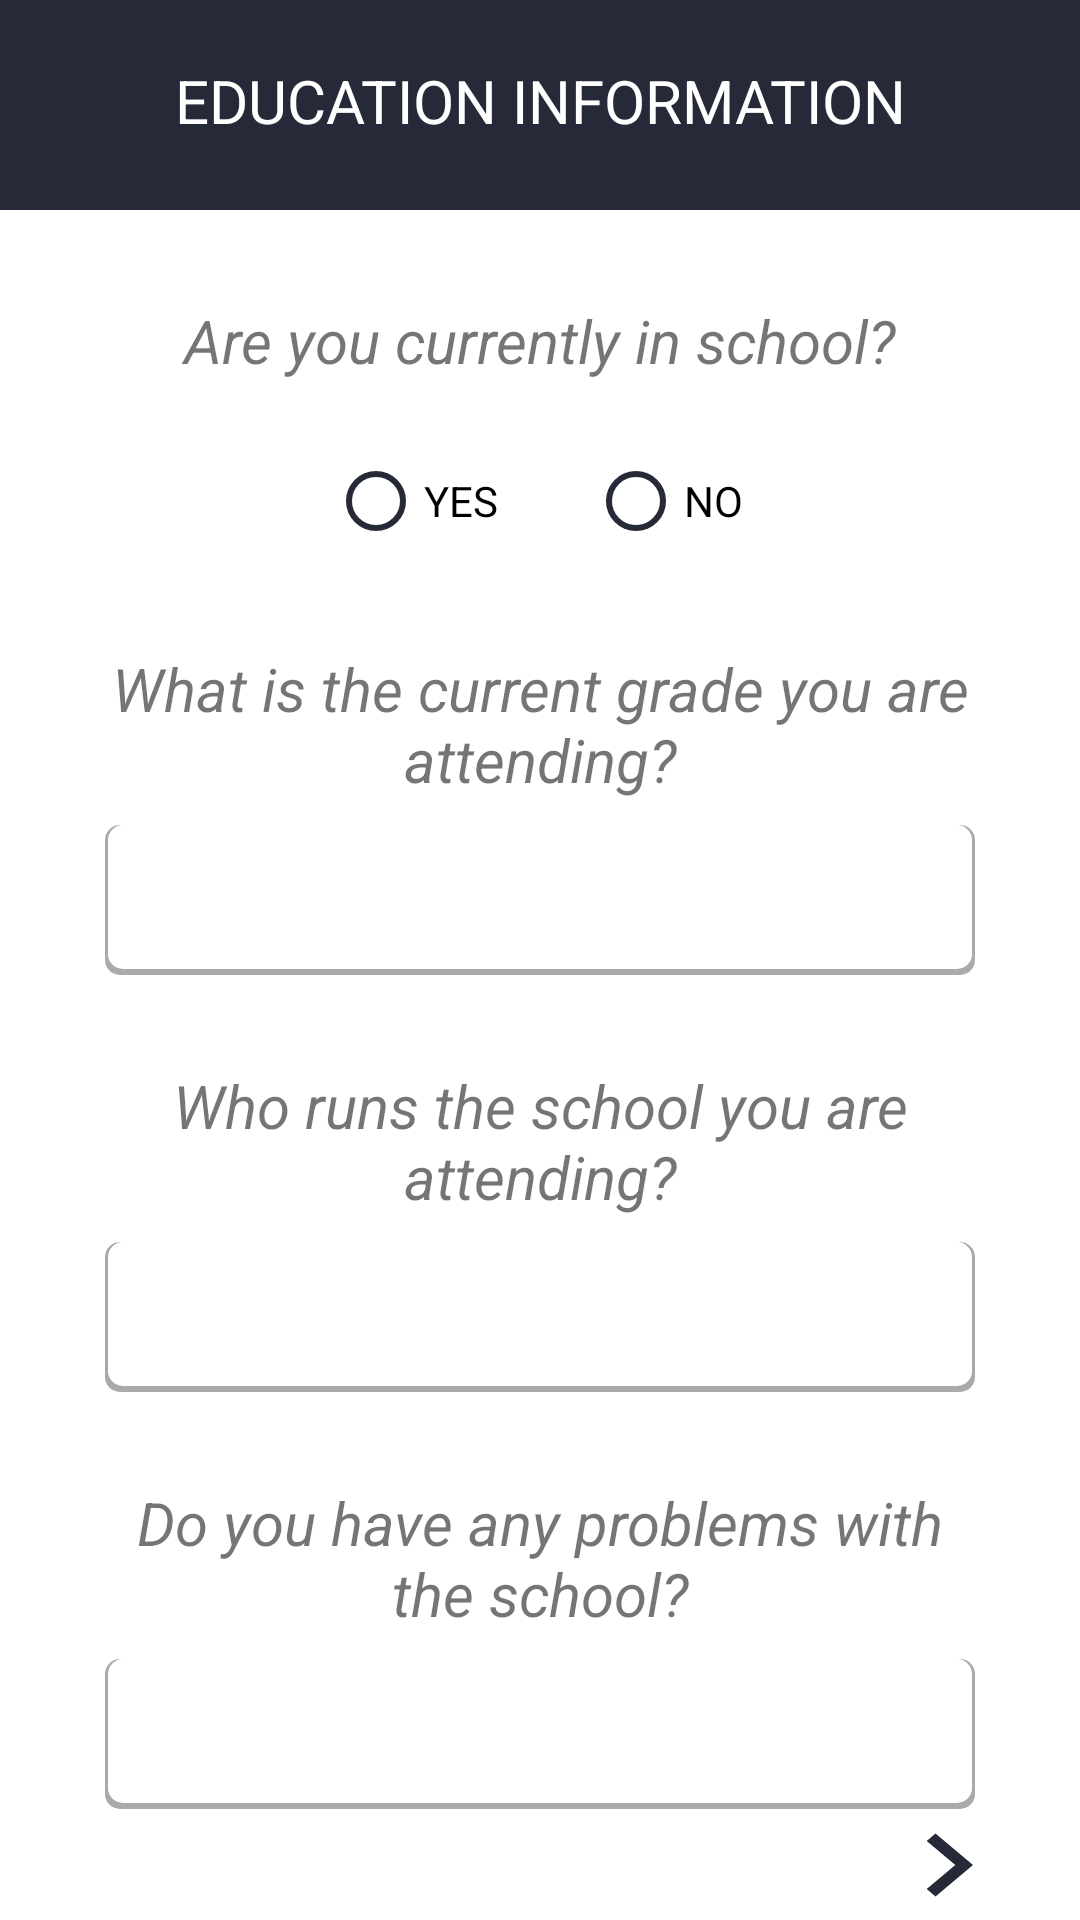

Where to tap for icons on this 1080*1920 app screen, as point (x, y):
navigate next: point (950, 1865)
